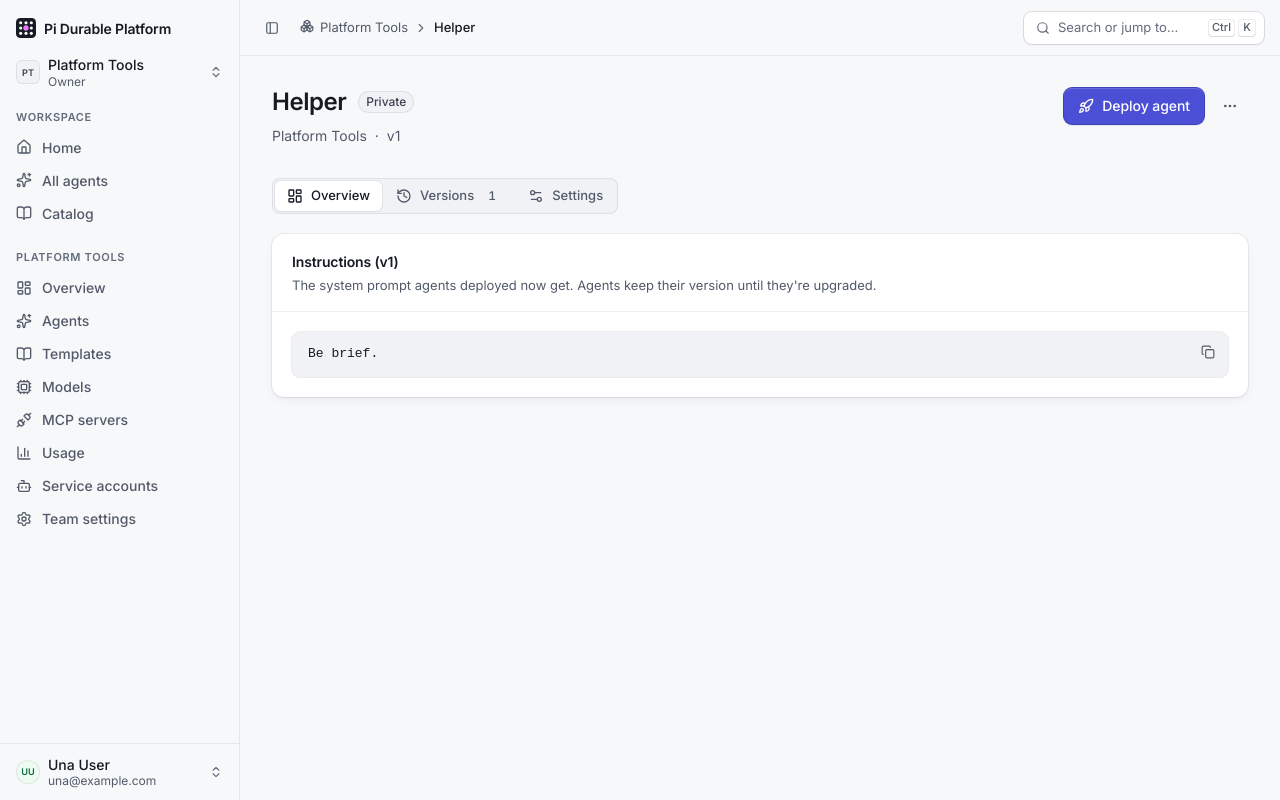
Scenario: attaching a team's own MCP server › says why a template using a team's own server can't go to the catalog
This screenshot has width=1280, height=800.
Expected: the heading "Helper" is shown, [272,88,346,117]
Click the button named "More actions".
click(1230, 106)  # box [1212,88,1248,124]
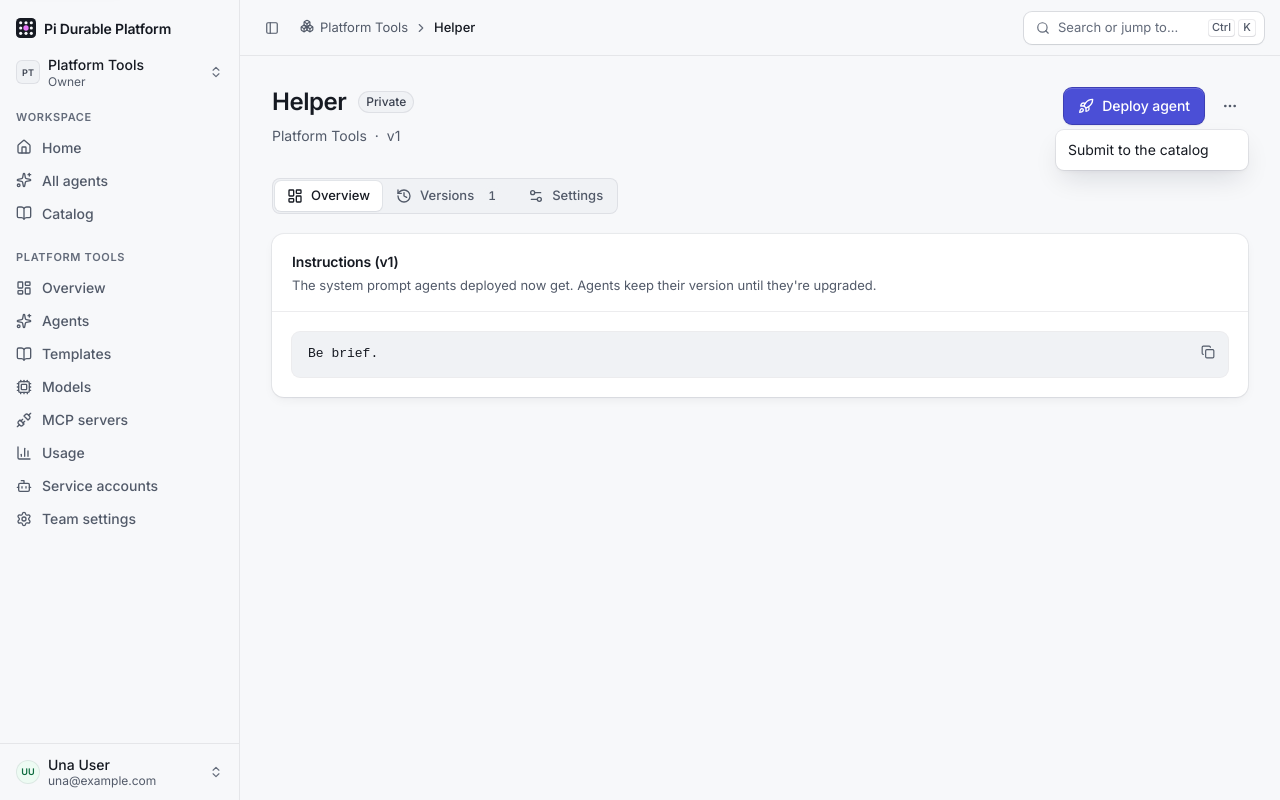
Click the menu item "Submit to the catalog".
click(1138, 150)  # box [1068,141,1209,158]
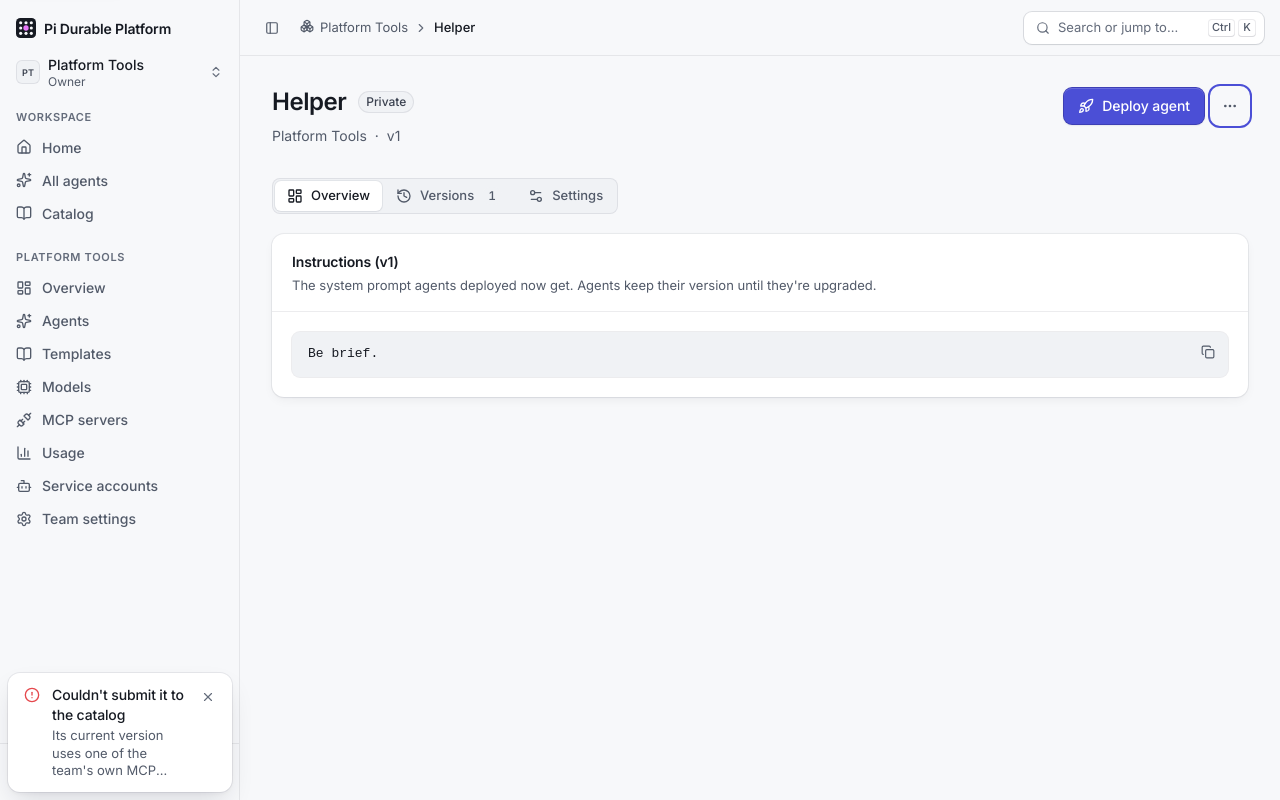
Expected: the heading "Couldn't submit it to the catalog" is shown, [52,685,184,725]
